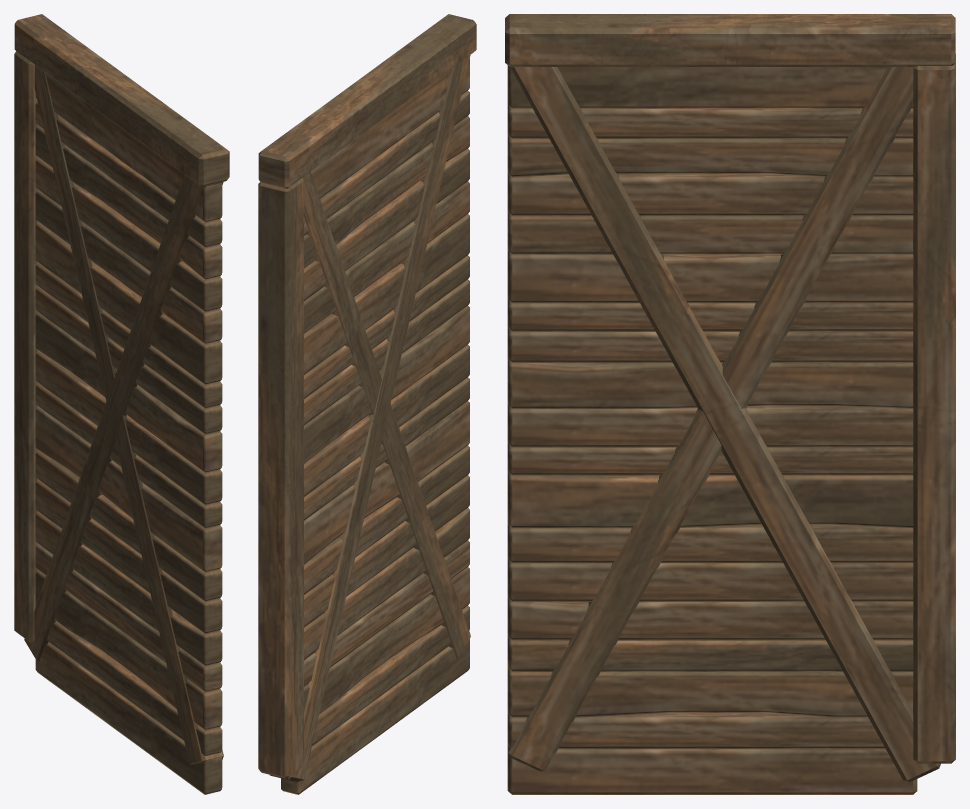
File: SM_wall_wood_01.fbx
3 views of the same model, side by side, from view 1: azimuth 30°, elevation 25°; view 2: azimuth 150°, elevation 25°; view 3: azimuth 270°, elevation 25° (orthographic). The views are drawn at different scales.
Parts seen in each view (by area): view 1: SM_wall_wood_01_LOD0; view 2: SM_wall_wood_01_LOD0; view 3: SM_wall_wood_01_LOD0.
Boxes of the visible parts, box(x1,y1,x2,y2) form: SM_wall_wood_01_LOD0: box(14, 14, 229, 794); SM_wall_wood_01_LOD0: box(258, 14, 476, 794); SM_wall_wood_01_LOD0: box(505, 14, 955, 794).
Bounding box in the file's own units: 20 × 212 × 399.
Materials: 1 (1 with a texture image).
